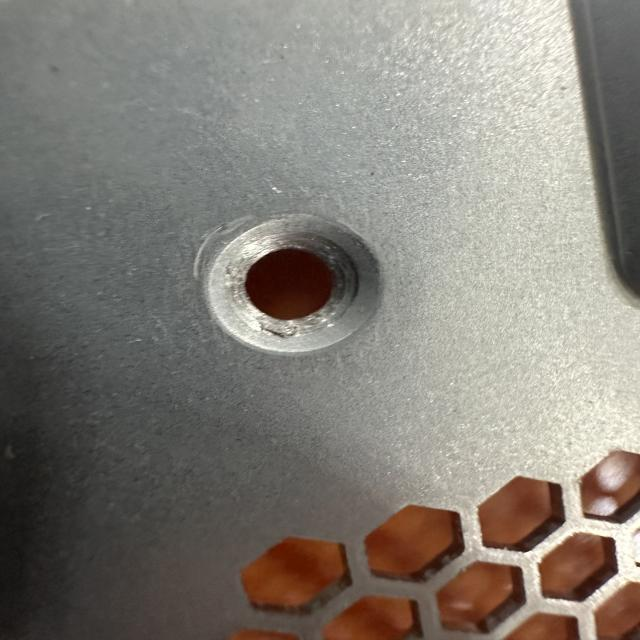Missing screw: (186, 205, 404, 364)
